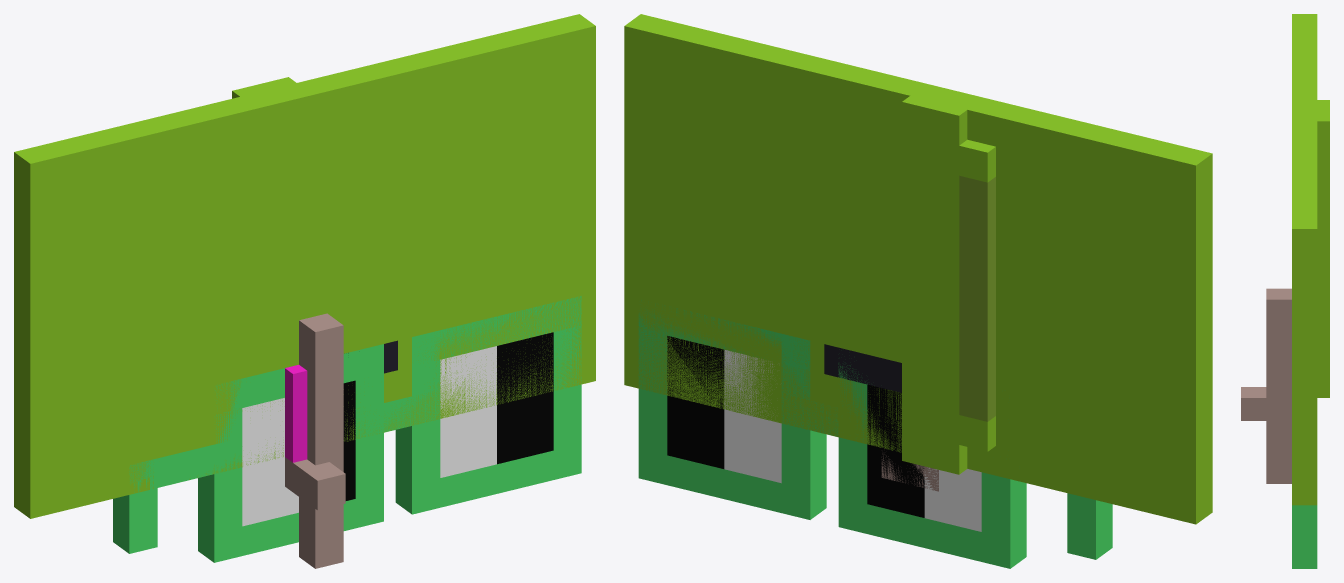
The model's file is skateboard.glb.
The picture shows the model from 3 angles, left to right: view 1: azimuth 30°, elevation 25°; view 2: azimuth 150°, elevation 25°; view 3: azimuth 270°, elevation 25°; orthographic projection. The views are drawn at different scales.
Parts seen in each view (by area): view 1: base, monture, glass (1), t, e, r1 (4); view 2: base, monture, left, glass (1), left-end, mouth; view 3: base, t, left, monture, left-end, e.
Part boxes in pixels (left/top/right/bottom): base: left=14, top=14, right=595, bottom=518; monture: left=113, top=296, right=581, bottom=562; glass (1): left=242, top=332, right=553, bottom=526; t: left=299, top=313, right=343, bottom=568; e: left=285, top=457, right=345, bottom=510; r1 (4): left=285, top=365, right=307, bottom=462; base: left=624, top=14, right=1212, bottom=524; monture: left=638, top=300, right=1112, bottom=568; left: left=902, top=90, right=974, bottom=474; glass (1): left=667, top=336, right=981, bottom=531; left-end: left=902, top=139, right=995, bottom=451; mouth: left=824, top=344, right=901, bottom=392; base: left=1292, top=14, right=1317, bottom=505; t: left=1266, top=288, right=1291, bottom=483; left: left=1304, top=100, right=1329, bottom=397; monture: left=1292, top=505, right=1317, bottom=568; left-end: left=1317, top=190, right=1329, bottom=328; e: left=1241, top=387, right=1266, bottom=420.
Bounding box in the file's own units: 20 × 15.5 × 3.5.
13 materials, 13 textured.
